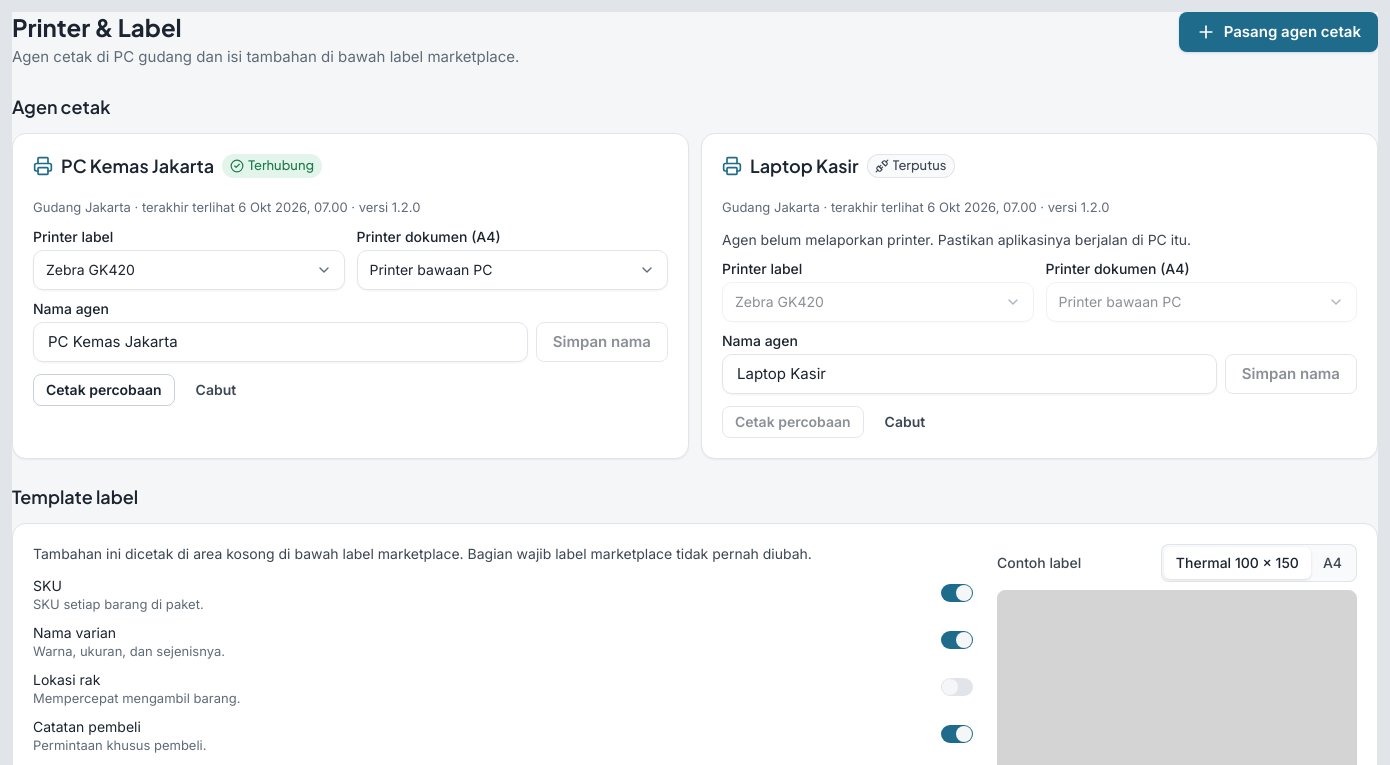
PrintersView (L42) › shows agents with their state, and test prints on a connected one
The width and height of the screenshot is (1390, 765).
Expected: the text "PC Kemas Jakarta" is shown, [61, 154, 214, 176]
Expected: the text "Terputus" is shown, [892, 157, 946, 175]
Step 1. Click the button "Cetak percobaan" below "PC Kemas Jakarta" → (104, 390), box [33, 374, 175, 406]
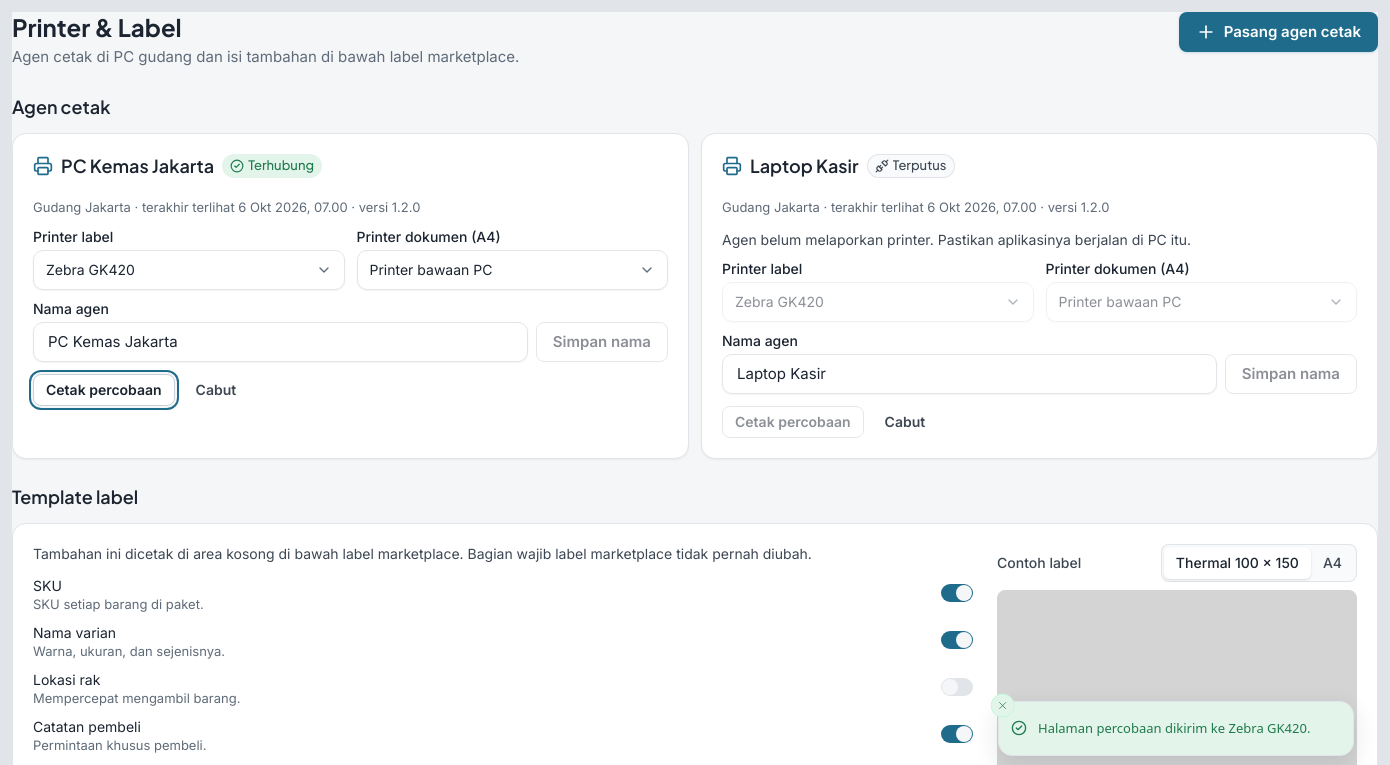
Expected: the text "Halaman percobaan dikirim ke Zebra GK420." is shown, [1038, 718, 1310, 739]
